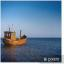fishing boat: (0, 22, 29, 47)
